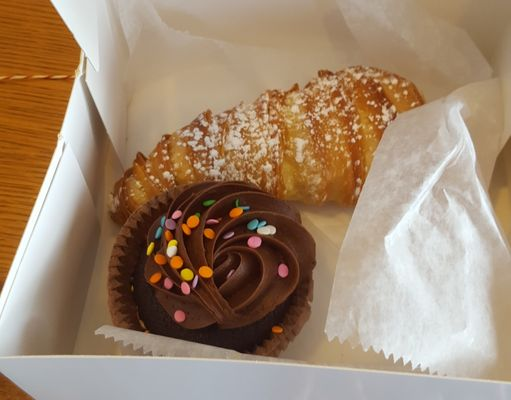salad: (139, 64, 425, 207), (128, 180, 317, 357)
